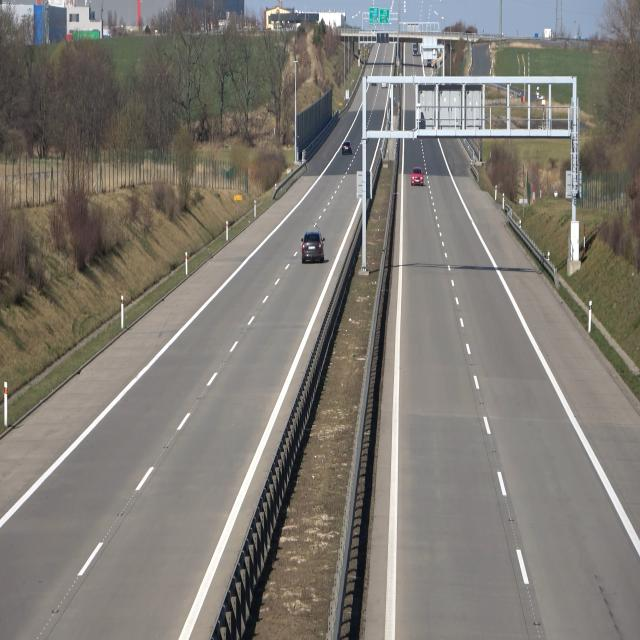Car: (300, 231, 326, 266), (410, 167, 423, 186), (341, 140, 352, 156)
